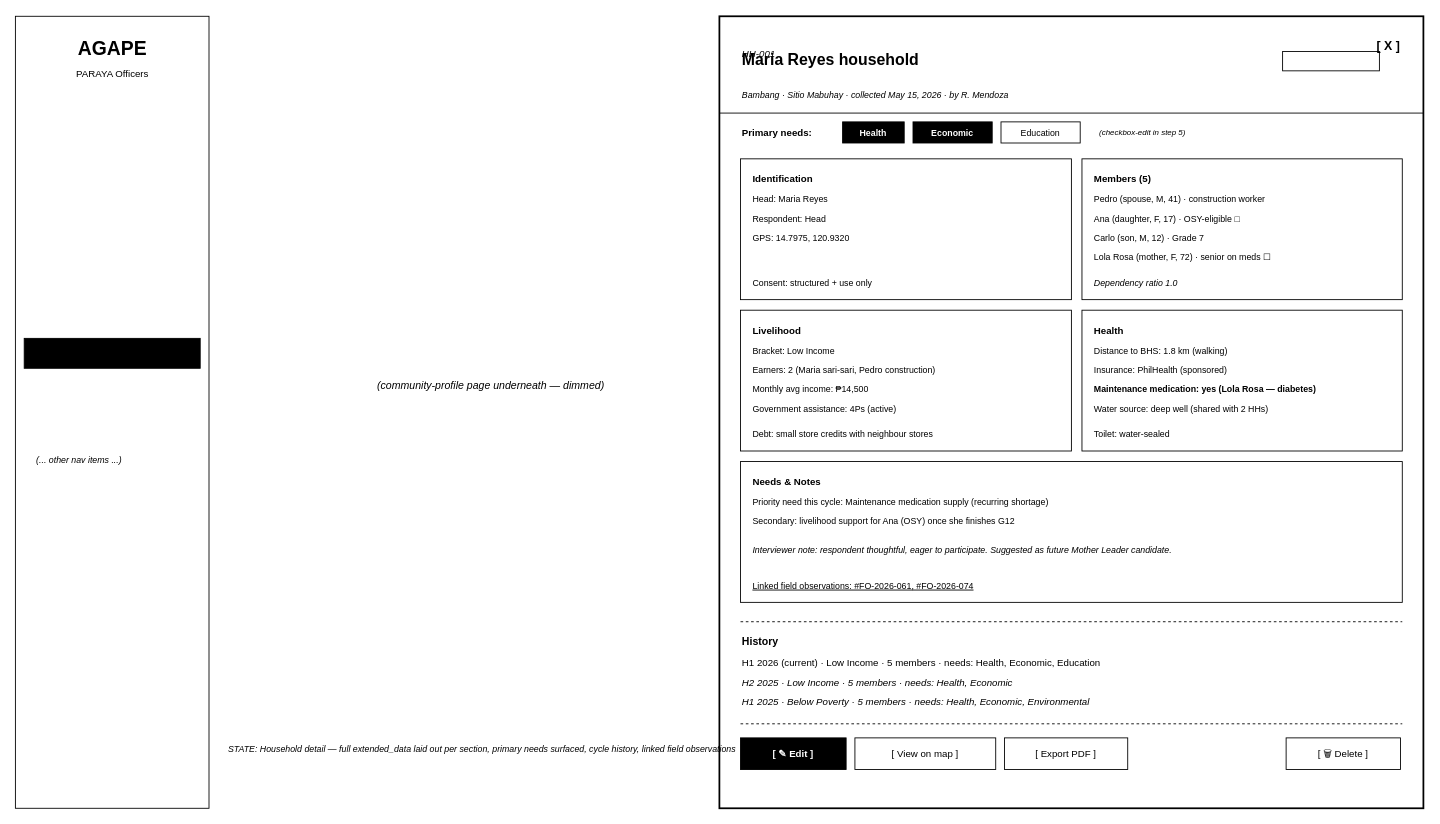
The diagram is 1440 pixels wide and 824 high, and some of its shapes have lost their labels. The shapes that lost their labels are listed below. From the top down, each one's centre as x and y in pixels, then its label:
At point (1330, 61): "( Low Income )".
At point (111, 352): "[x] Community Profile".
